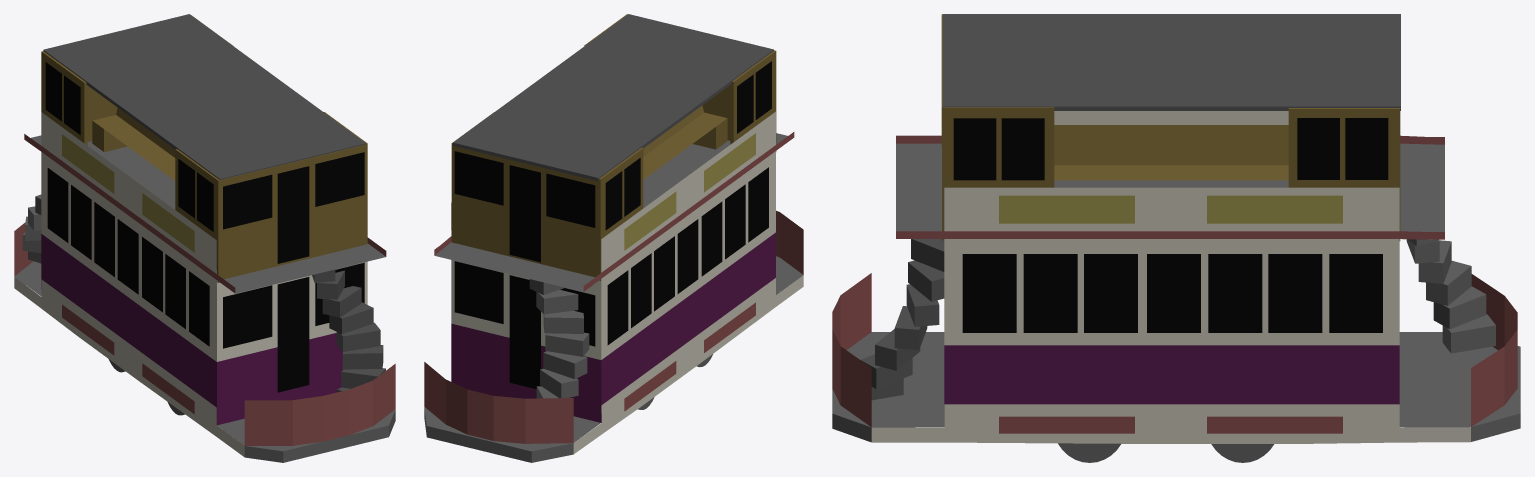
The model's file is medium-large-2-deck-trailer.dae.
3 views of the same model, side by side, from view 1: azimuth 30°, elevation 25°; view 2: azimuth 150°, elevation 25°; view 3: azimuth 270°, elevation 25° (orthographic). The views are drawn at different scales.
Parts seen in each view (by area): view 1: Cube, Cube_003, Plane_001, Cube_009, Plane_003, Plane_002, Cube_001, Cube_006, Plane_005, Cube_008, Plane_022, Plane_020 (+4 smaller); view 2: Cube, Cube_003, Plane_001, Plane_003, Cube_004, Plane_002, Cube_002, Cube_006, Plane_005, Plane_020, Cube_005, Plane_022 (+4 smaller); view 3: Cube, Cube_003, Plane, Cube_006, Plane_006, Cube_001, Cube_002, Plane_023, Plane_021, Untitled, Cube_010, Cube_007 (+1 smaller).
Boxes of the visible parts, left/top/right/bottom form: Cube: left=14, top=112, right=395, bottom=462; Cube_003: left=43, top=14, right=365, bottom=179; Plane_001: left=47, top=168, right=209, bottom=346; Cube_009: left=221, top=144, right=365, bottom=279; Plane_003: left=223, top=152, right=364, bottom=263; Plane_002: left=223, top=262, right=364, bottom=392; Cube_001: left=312, top=269, right=385, bottom=392; Cube_006: left=92, top=108, right=175, bottom=180; Plane_005: left=62, top=134, right=194, bottom=252; Cube_008: left=175, top=149, right=221, bottom=282; Plane_022: left=178, top=159, right=213, bottom=231; Plane_020: left=45, top=62, right=80, bottom=134; Cube: left=424, top=111, right=803, bottom=462; Cube_003: left=453, top=14, right=773, bottom=181; Plane_001: left=607, top=167, right=768, bottom=345; Plane_003: left=454, top=151, right=595, bottom=262; Cube_004: left=455, top=146, right=597, bottom=277; Plane_002: left=454, top=261, right=595, bottom=389; Cube_002: left=529, top=279, right=589, bottom=398; Cube_006: left=643, top=105, right=727, bottom=179; Plane_005: left=624, top=133, right=755, bottom=250; Plane_020: left=605, top=158, right=640, bottom=230; Cube_005: left=597, top=147, right=643, bottom=280; Plane_022: left=737, top=61, right=771, bottom=133; Cube: left=832, top=111, right=1520, bottom=443; Cube_003: left=942, top=14, right=1400, bottom=110; Plane: left=962, top=254, right=1382, bottom=332; Cube_006: left=1054, top=125, right=1288, bottom=180; Plane_006: left=999, top=195, right=1342, bottom=223; Cube_001: left=860, top=239, right=944, bottom=400; Cube_002: left=1406, top=239, right=1495, bottom=353; Plane_023: left=953, top=118, right=1044, bottom=180; Plane_021: left=1297, top=118, right=1388, bottom=179; Untitled: left=999, top=416, right=1342, bottom=433; Cube_010: left=943, top=107, right=1054, bottom=240; Cube_007: left=1288, top=108, right=1400, bottom=240.
Bounding box in the file's own units: 1.37 × 4.1 × 2.38.
